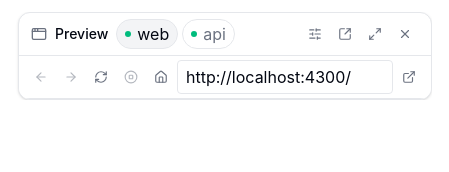
IssuePreviewDock › resets the URL bar when switching server tabs
Replace the text in the field named "Preview URL" with "http://mtu.localhost:4301/advisor" at {"x": 285, "y": 77}, box [177,60,393,94]
Then press Enter
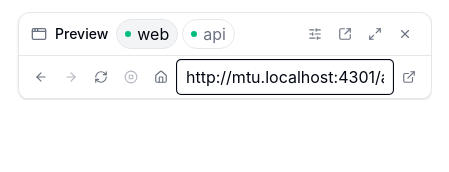
Click the tab with aria-label "Preview api (ready)".
click(209, 34)  # box [182,19,235,49]
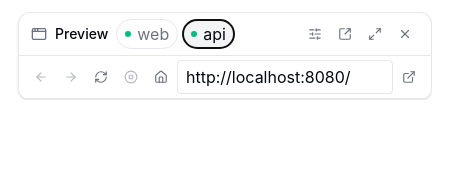
Expected: the field named "Preview URL" holds "http://localhost:8080/", [177,60,393,94]
